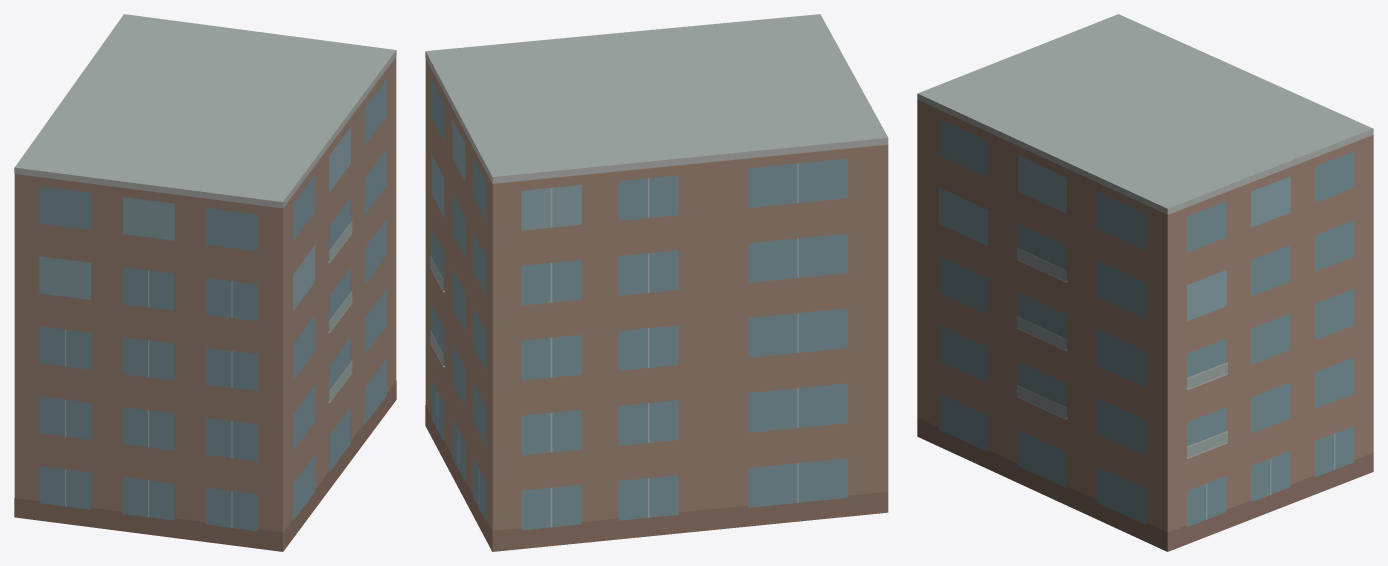
Rendered from survey-upis-32999188.glb.
The picture shows the model from 3 angles, left to right: view 1: azimuth 30°, elevation 25°; view 2: azimuth 150°, elevation 25°; view 3: azimuth 270°, elevation 25°; orthographic projection. The views are drawn at different scales.
Visible parts, largest first — view 1: survey-upis-32999188.tmp; view 2: survey-upis-32999188.tmp; view 3: survey-upis-32999188.tmp.
Part boxes in pixels (x1,y1,x2,y2): survey-upis-32999188.tmp: (14,14,396,551); survey-upis-32999188.tmp: (425,14,888,551); survey-upis-32999188.tmp: (917,14,1373,551).
Bounding box in the file's own units: 16.57 × 13.6 × 16.4.
